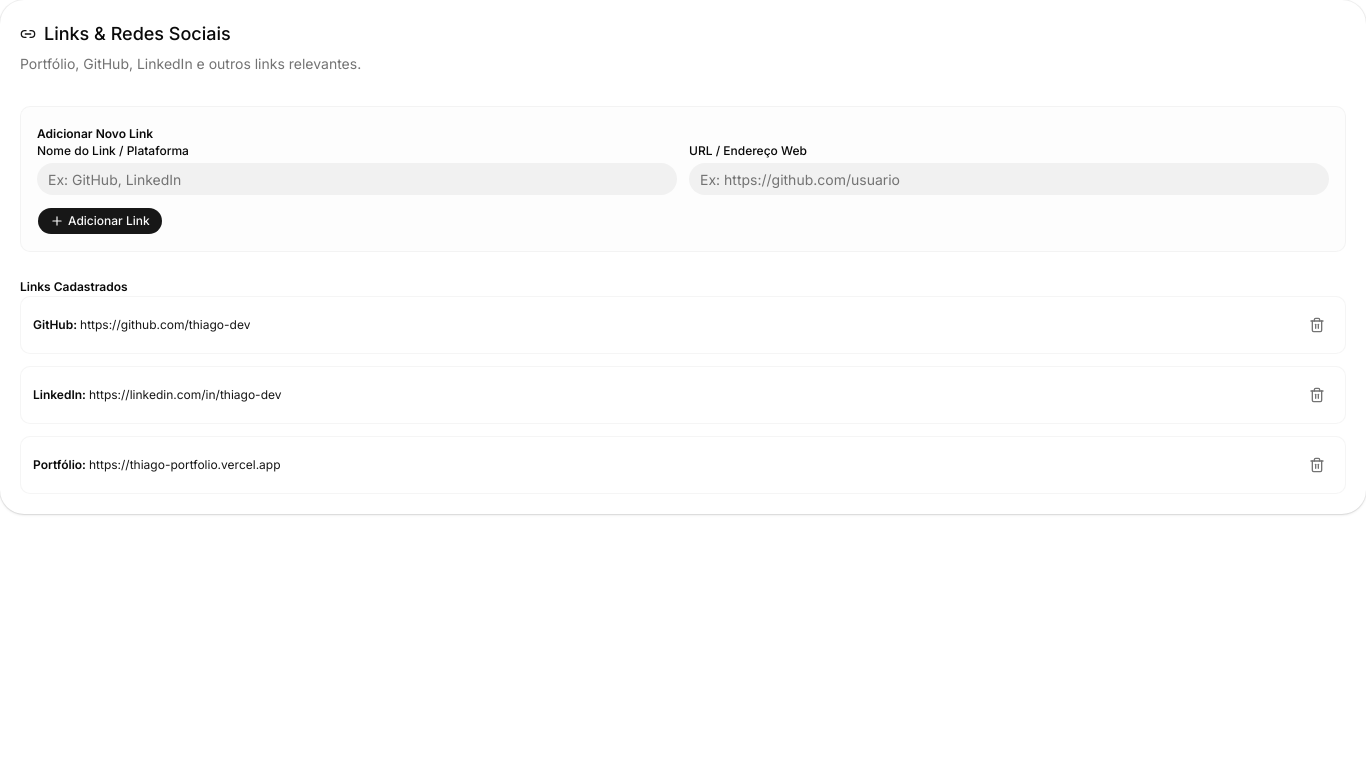
Scenario: CandidateLinksSection Component › cancels deletion when cancel button is clicked in dialog
The width and height of the screenshot is (1366, 768).
Click the button without text in the row of "https://github.com/thiago-dev".
click(1317, 325)  # box x1=1301 y1=309 x2=1333 y2=341
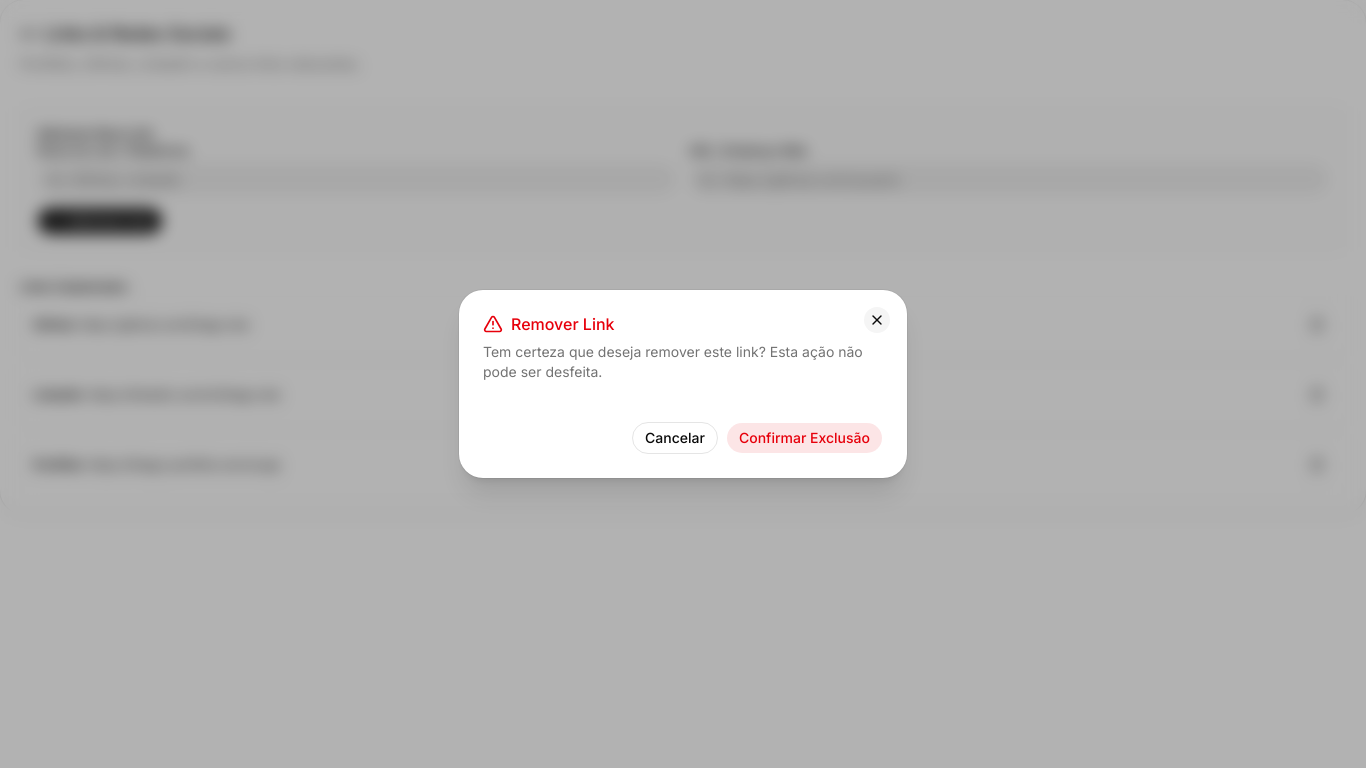
Click the button "Cancelar".
click(675, 438)  # box x1=632 y1=422 x2=718 y2=454
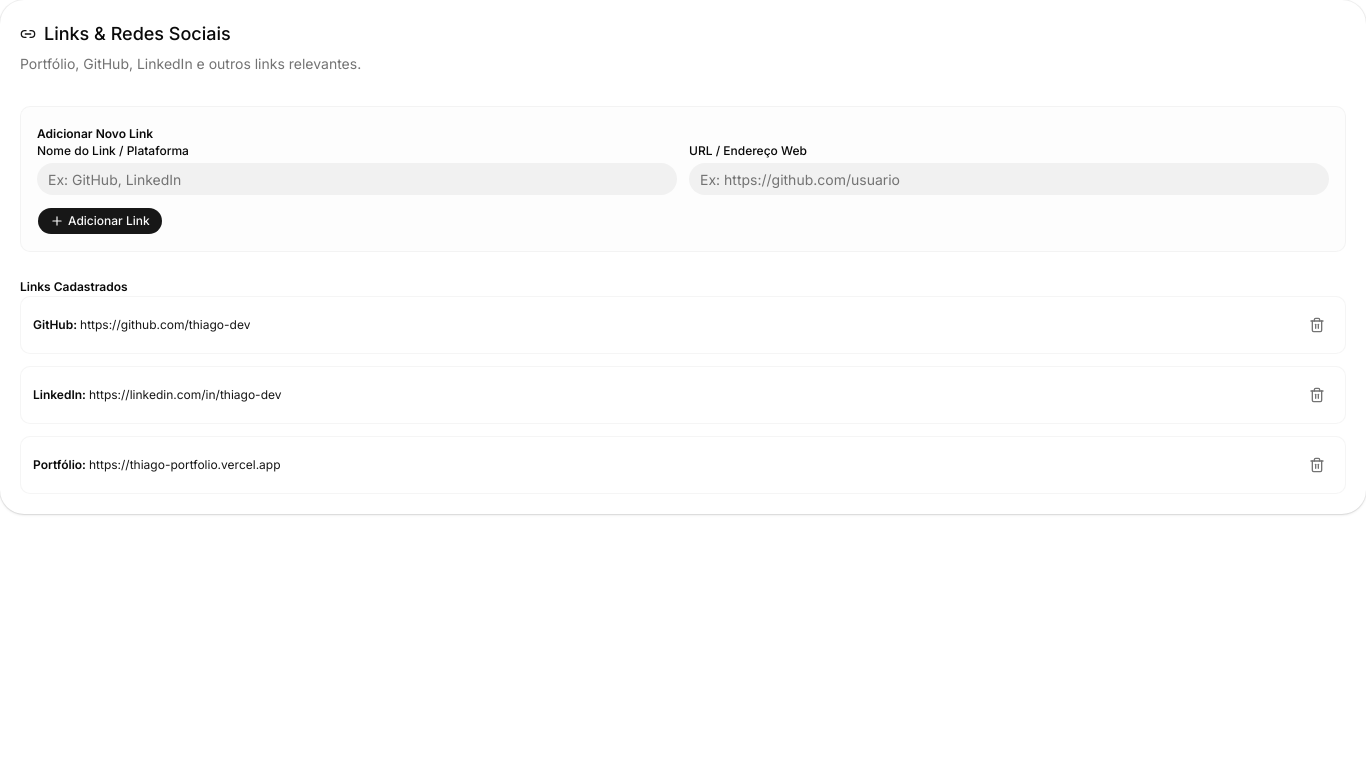
expect the heading "Remover Link" is gone: met
